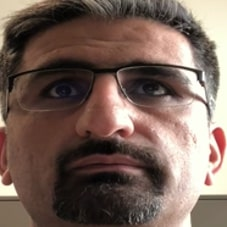awake: (28, 47, 195, 196)
